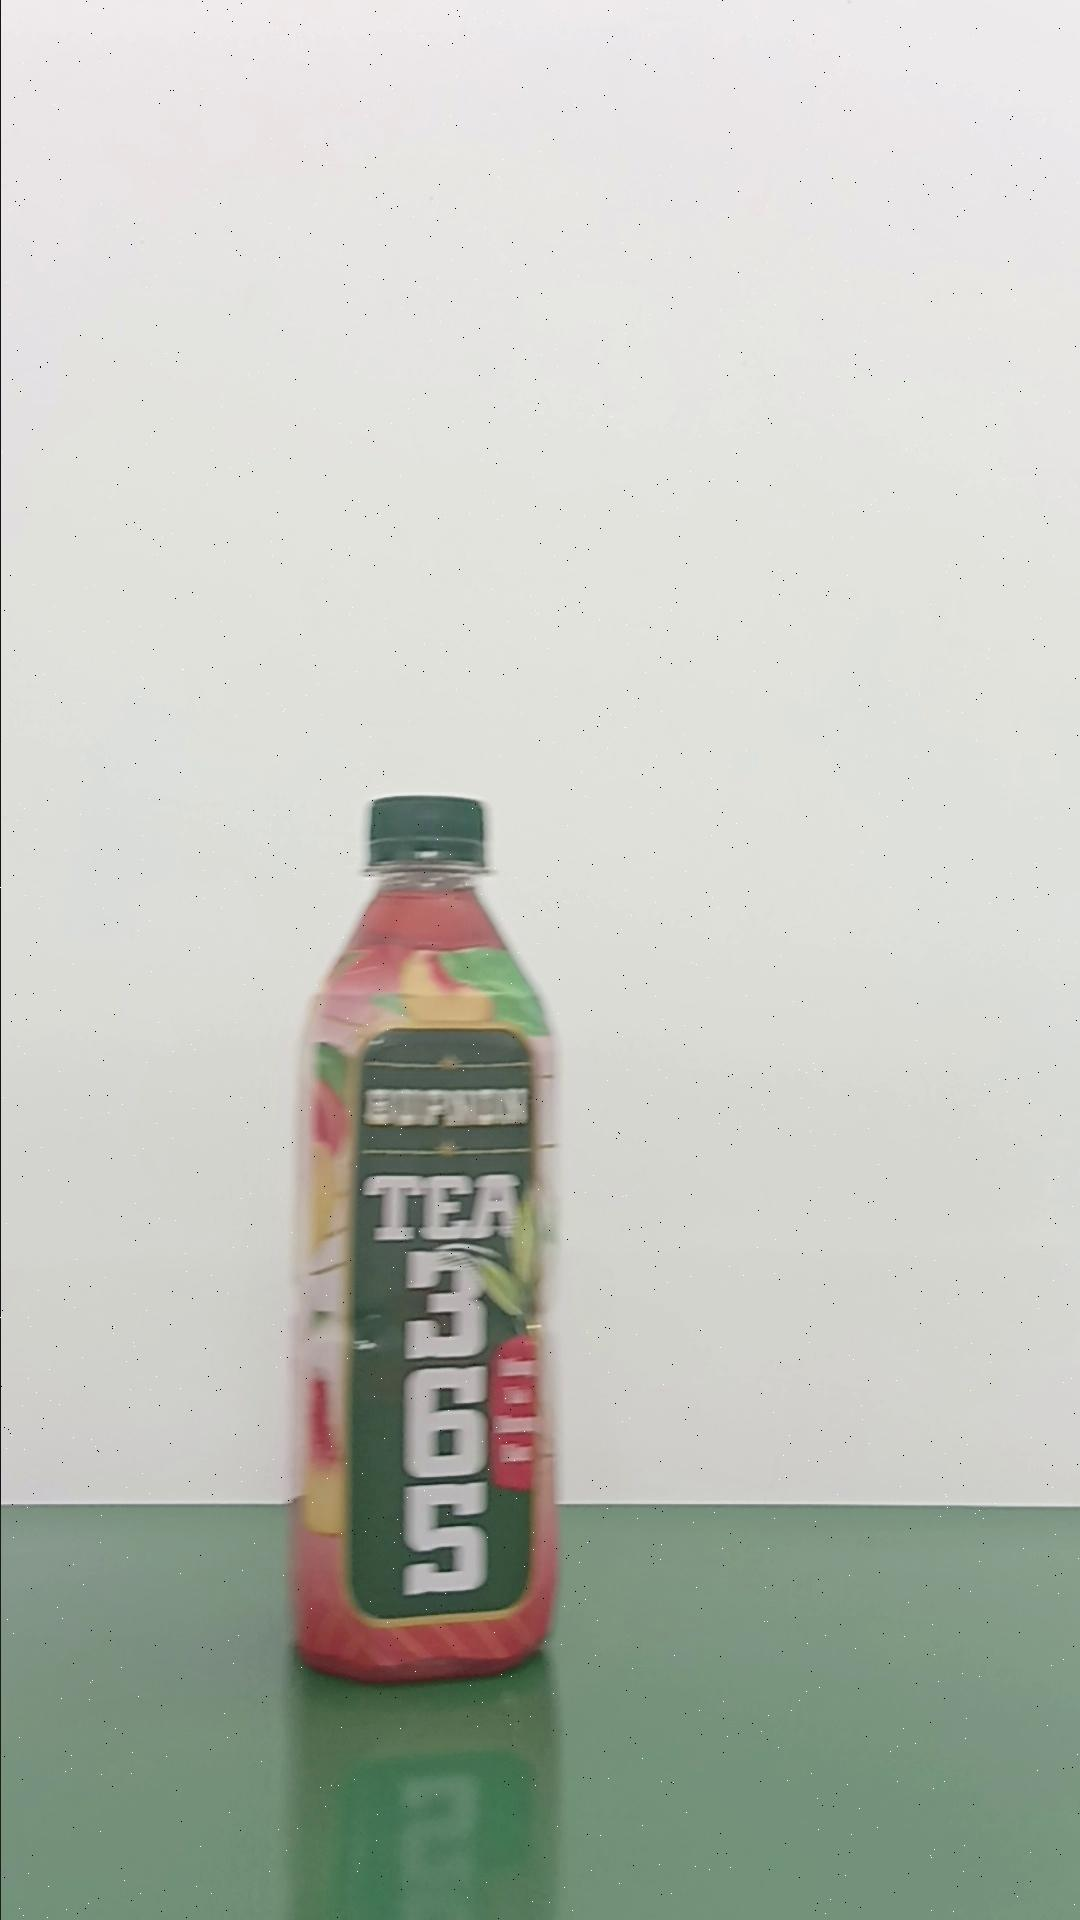khong loi: (284, 791, 563, 1684)
